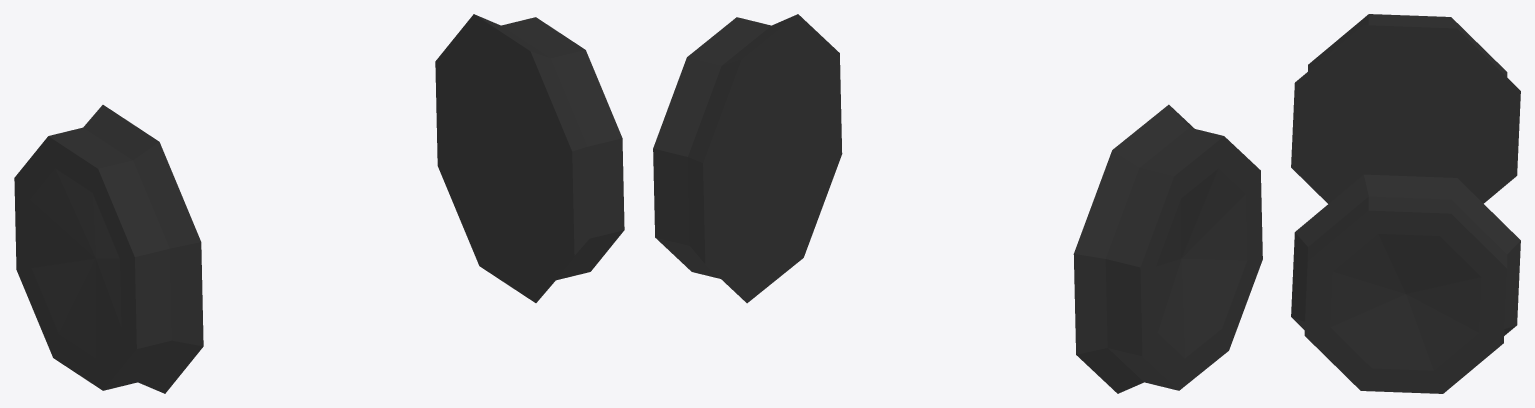
Rendered from train-wagon-oil-wheel_F2.glb.
3 views of the same model, side by side, from view 1: azimuth 30°, elevation 25°; view 2: azimuth 150°, elevation 25°; view 3: azimuth 270°, elevation 25° (orthographic). The views are drawn at different scales.
Parts seen in each view (by area): view 1: train-wagon-oil-wheel_F2; view 2: train-wagon-oil-wheel_F2; view 3: train-wagon-oil-wheel_F2.
Part boxes in pixels (left/top/right/bottom): train-wagon-oil-wheel_F2: left=14, top=14, right=624, bottom=393; train-wagon-oil-wheel_F2: left=653, top=14, right=1262, bottom=393; train-wagon-oil-wheel_F2: left=1291, top=14, right=1520, bottom=393.
Bounding box in the file's own units: 1.64 × 0.8091 × 0.8091.
1 material, 1 textured.
